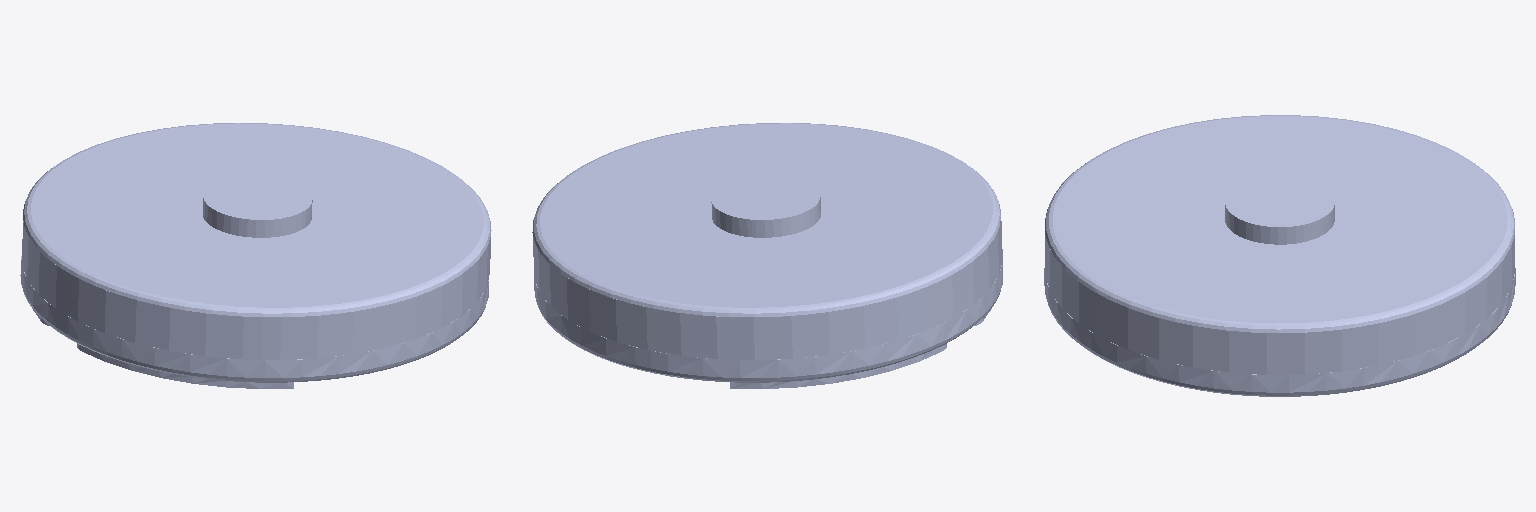
The robot description file, URDF, robot "bot":
<?xml version="1.0" encoding="utf-8"?>
<robot
  name="bot">
  <link
    name="base_link">
    <inertial>
      <origin
        xyz="0 0 0"
        rpy="0 0 0" />
      <mass
        value="15.168" />
      <inertia
        ixx="0.37884"
        ixy="-6.3135E-17"
        ixz="0.012125"
        iyy="0.41552"
        iyz="-1.136E-17"
        izz="0.789" />
    </inertial>
    <visual>
      <origin
        xyz="0 0 0"
        rpy="0 0 0" />
      <geometry>
        <mesh
          filename="package://bot/meshes/base_link.STL" />
      </geometry>
      <material
        name="">
        <color
          rgba="0.79216 0.81961 0.93333 1" />
      </material>
    </visual>
    <collision>
      <origin
        xyz="0 0 0"
        rpy="0 0 0" />
      <geometry>
        <mesh
          filename="package://bot/meshes/base_link.STL" />
      </geometry>
    </collision>
  </link>
  <gazebo reference="base_link">
    <material>Gazebo/White</material>
    <mu1>0.2</mu1>
    <mu2>0.2</mu2>
    <selfCollide>true</selfCollide>
  </gazebo>
  <link
    name="link_1">
    <inertial>
      <origin
        xyz="3.8752E-11 1.9819E-11 0.0375"
        rpy="0 0 0" />
      <mass
        value="0.3649" />
      <inertia
        ixx="0.00028262"
        ixy="1.4029E-12"
        ixz="9.1655E-13"
        iyy="0.00028262"
        iyz="2.1972E-12"
        izz="0.00038229" />
    </inertial>
    <visual>
      <origin
        xyz="0 0 0"
        rpy="0 0 0" />
      <geometry>
        <mesh
          filename="package://bot/meshes/link_1.STL" />
      </geometry>
      <material
        name="">
        <color
          rgba="0.79216 0.81961 0.93333 1" />
      </material>
    </visual>
    <collision>
      <origin
        xyz="0 0 0"
        rpy="0 0 0" />
      <geometry>
        <mesh
          filename="package://bot/meshes/link_1.STL" />
      </geometry>
    </collision>
  </link>
  <gazebo reference="link_1">
    <material>Gazebo/Black</material>
    <mu1>15000</mu1>
    <mu2>15000</mu2>
    <selfCollide>true</selfCollide>
  </gazebo>
  <joint
    name="joint_1"
    type="continuous">
    <origin
      xyz="-0.02405 -0.2545 0.025915"
      rpy="-1.5708 0.037304 0" />
    <parent
      link="base_link" />
    <child
      link="link_1" />
    <axis
      xyz="0 0 1" />
    <limit
      effort="100"
      velocity="100" />
  </joint>
  <link
    name="link_2">
    <inertial>
      <origin
        xyz="4.5793E-11 -4.5064E-11 -0.0375"
        rpy="0 0 0" />
      <mass
        value="0.3649" />
      <inertia
        ixx="0.00028262"
        ixy="-3.5655E-13"
        ixz="1.6795E-12"
        iyy="0.00028262"
        iyz="-2.3287E-12"
        izz="0.00038229" />
    </inertial>
    <visual>
      <origin
        xyz="0 0 0"
        rpy="0 0 0" />
      <geometry>
        <mesh
          filename="package://bot/meshes/link_2.STL" />
      </geometry>
      <material
        name="">
        <color
          rgba="0.79216 0.81961 0.93333 1" />
      </material>
    </visual>
    <collision>
      <origin
        xyz="0 0 0"
        rpy="0 0 0" />
      <geometry>
        <mesh
          filename="package://bot/meshes/link_2.STL" />
      </geometry>
    </collision>
  </link>
  <gazebo reference="link_2">
    <material>Gazebo/Black</material>
     <mu1>15000</mu1>
    <mu2>15000</mu2>
    <selfCollide>true</selfCollide>
  </gazebo>
  <joint
    name="joint_2"
    type="continuous">
    <origin
      xyz="-0.02405 0.255 0.025915"
      rpy="-1.5708 0.037304 0" />
    <parent
      link="base_link" />
    <child
      link="link_2" />
    <axis
      xyz="0 0 1" />
    <limit
      effort="100"
      velocity="100" />
  </joint>
  <link
    name="link_3">
    <inertial>
      <origin
        xyz="3.8963E-10 2.7669E-10 -0.15509"
        rpy="0 0 0" />
      <mass
        value="0.25923" />
      <inertia
        ixx="0.0019313"
        ixy="1.7325E-10"
        ixz="1.2282E-09"
        iyy="0.0019313"
        iyz="-3.8798E-10"
        izz="4.3605E-05" />
    </inertial>
    <visual>
      <origin
        xyz="0 0 0"
        rpy="0 0 0" />
      <geometry>
        <mesh
          filename="package://bot/meshes/link_3.STL" />
      </geometry>
      <material
        name="">
        <color
          rgba="0.79608 0.82353 0.93725 1" />
      </material>
    </visual>
    <collision>
      <origin
        xyz="0 0 0"
        rpy="0 0 0" />
      <geometry>
        <mesh
          filename="package://bot/meshes/link_3.STL" />
      </geometry>
    </collision>
  </link>
  <gazebo reference="link_3">
    <material>Gazebo/Red</material>
     <mu1>0.2</mu1>
    <mu2>0.2</mu2>
    <selfCollide>true</selfCollide>
  </gazebo>
  <joint
    name="joint_3"
    type="continuous">
    <origin
      xyz="-0.034319 -0.155 0.026298"
      rpy="1.5708 0.037304 0" />
    <parent
      link="base_link" />
    <child
      link="link_3" />
    <axis
      xyz="0 0 1" />
    <limit
      effort="100"
      velocity="100" />
  </joint>
  <link
    name="link_4">
    <inertial>
      <origin
        xyz="6.095E-09 -1.091E-08 -0.029197"
        rpy="0 0 0" />
      <mass
        value="0.10253" />
      <inertia
        ixx="3.468E-05"
        ixy="1.2555E-10"
        ixz="-1.2705E-11"
        iyy="3.468E-05"
        iyz="2.2742E-11"
        izz="3.439E-05" />
    </inertial>
    <visual>
      <origin
        xyz="0 0 0"
        rpy="0 0 0" />
      <geometry>
        <mesh
          filename="package://bot/meshes/link_4.STL" />
      </geometry>
      <material
        name="">
        <color
          rgba="0.79216 0.81961 0.93333 1" />
      </material>
    </visual>
    <collision>
      <origin
        xyz="0 0 0"
        rpy="0 0 0" />
      <geometry>
        <mesh
          filename="package://bot/meshes/link_4.STL" />
      </geometry>
    </collision>
  </link>
  <gazebo reference="link_4">
    <material>Gazebo/Black</material>
     <mu1>15000</mu1>
    <mu2>15000</mu2>
    <selfCollide>true</selfCollide>
  </gazebo>
  <joint
    name="joint_4"
    type="continuous">
    <origin
      xyz="0.2185 0 0.022867"
      rpy="0 0.037304 0" />
    <parent
      link="base_link" />
    <child
      link="link_4" />
    <axis
      xyz="0 0 1" />
    <limit
      effort="100"
      velocity="100" />
  </joint>
  <link
    name="link_5">
    <inertial>
      <origin
        xyz="0.0042516 3.4761E-18 0.11392"
        rpy="0 0 0" />
      <mass
        value="0.46181" />
      <inertia
        ixx="0.0006011"
        ixy="2.6833E-20"
        ixz="1.9793E-05"
        iyy="0.00060036"
        iyz="-7.7824E-21"
        izz="0.0011307" />
    </inertial>
    <visual>
      <origin
        xyz="0 0 0"
        rpy="0 0 0" />
      <geometry>
        <mesh
          filename="package://bot/meshes/link_5.STL" />
      </geometry>
      <material
        name="">
        <color
          rgba="0.79216 0.81961 0.93333 1" />
      </material>
    </visual>
    <collision>
      <origin
        xyz="0 0 0"
        rpy="0 0 0" />
      <geometry>
        <mesh
          filename="package://bot/meshes/link_5.STL" />
      </geometry>
    </collision>
  </link>
  <gazebo reference="link_5">
    <material>Gazebo/Black</material>
     <mu1>0.2</mu1>
    <mu2>0.2</mu2>
    <selfCollide>true</selfCollide>
  </gazebo>
  <joint
    name="joint_5"
    type="fixed">
    <origin
      xyz="0 0 0"
      rpy="0 0 0" />
    <parent
      link="base_link" />
    <child
      link="link_5" />
    <axis
      xyz="0 0 0" />
  </joint>
  
  <gazebo>
  <plugin name="differential_drive_controller" filename="libgazebo_ros_diff_drive.so">

    <!-- Plugin update rate in Hz -->
    <updateRate>10</updateRate>

    <!-- Name of left joint, defaults to `left_joint` -->
    <leftJoint>joint_2</leftJoint>

    <!-- Name of right joint, defaults to `right_joint` -->
    <rightJoint>joint_1</rightJoint>

    <!-- The distance from the center of one wheel to the other, in meters, defaults to 0.34 m -->
    <wheelSeparation>0.435</wheelSeparation>

    <!-- Diameter of the wheels, in meters, defaults to 0.15 m -->
    <wheelDiameter>0.1054</wheelDiameter>

    <!-- Wheel acceleration, in rad/s^2, defaults to 0.0 rad/s^2 -->
    <wheelAcceleration>1.0</wheelAcceleration>

    <!-- Maximum torque which the wheels can produce, in Nm, defaults to 5 Nm -->
    <wheelTorque>30</wheelTorque>

    <!-- Topic to receive geometry_msgs/Twist message commands, defaults to `cmd_vel` -->
    <commandTopic>cmd_vel</commandTopic>

    <!-- Topic to publish nav_msgs/Odometry messages, defaults to `odom` -->
    <odometryTopic>odom</odometryTopic>

    <!-- Odometry frame, defaults to `odom` -->
    <odometryFrame>odom</odometryFrame>

    <!-- Robot frame to calculate odometry from, defaults to `base_footprint` -->
    <robotBaseFrame>base_link</robotBaseFrame>

    <!-- Odometry source, 0 for ENCODER, 1 for WORLD, defaults to WORLD -->
    <odometrySource>1</odometrySource>

    <!-- Set to true to publish transforms for the wheel links, defaults to false -->
    <publishWheelTF>false</publishWheelTF>

    <!-- Set to true to publish transforms for the odometry, defaults to true -->
    <publishOdom>true</publishOdom>

    <!-- Set to true to publish sensor_msgs/JointState on /joint_states for the wheel joints, defaults to false -->
    <publishWheelJointState>false</publishWheelJointState>

    <!-- Set to true to swap right and left wheels, defaults to true -->
    <legacyMode>false</legacyMode>
  </plugin>
</gazebo>

<!-- hokuyo -->
  <gazebo reference="link_5">
    <sensor type="ray" name="head_hokuyo_sensor">
      <pose>0 0 0 0 0 0</pose>
      <visualize>true</visualize>
      <update_rate>20</update_rate>
      <ray>
        <scan>
          <horizontal>
            <samples>720</samples>
            <resolution>1</resolution>
            <min_angle>-3.14</min_angle>
            <max_angle>3.14</max_angle>
          </horizontal>
        </scan>
        <range>
          <min>0.5</min>
          <max>20.0</max>
          <resolution>0.01</resolution>
        </range>
        <noise>
          <type>gaussian</type>
          <!-- Noise parameters based on published spec for Hokuyo laser
               achieving "+-30mm" accuracy at range < 10m.  A mean of 0.0m and
               stddev of 0.01m will put 99.7% of samples within 0.03m of the true
               reading. -->
          <mean>0.0</mean>
          <stddev>0.01</stddev>
        </noise>
      </ray>
        <plugin name="gazebo_ros_head_hokuyo_controller" filename="libgazebo_ros_laser.so">
        <topicName>/scan</topicName>
        <frameName>link_5</frameName>
      </plugin>
    </sensor>
  </gazebo>
  
</robot>

--- Render facts (derived) ---
Views: 3 orthographic renders of the robot side by side, from view 1: azimuth 30°, elevation 25°; view 2: azimuth 150°, elevation 25°; view 3: azimuth 270°, elevation 25°.
Robot: bot — 6 links, 5 joints (4 continuous, 1 fixed); root link base_link; default pose: all joints at 0.
Links seen in each view (by area): view 1: base_link, link_5; view 2: base_link, link_5; view 3: base_link, link_5.
Boxes of the visible links, x1,y1,x2,y2 form: base_link: [20, 123, 491, 388]; link_5: [203, 176, 312, 237]; base_link: [532, 123, 1002, 388]; link_5: [711, 176, 820, 237]; base_link: [1044, 115, 1515, 396]; link_5: [1225, 177, 1334, 244].
Size in the robot's own frame: 0.6025 by 0.6 by 0.1669 metres.
6 mesh visuals loaded from 6 distinct referenced files (6 binary STL).
